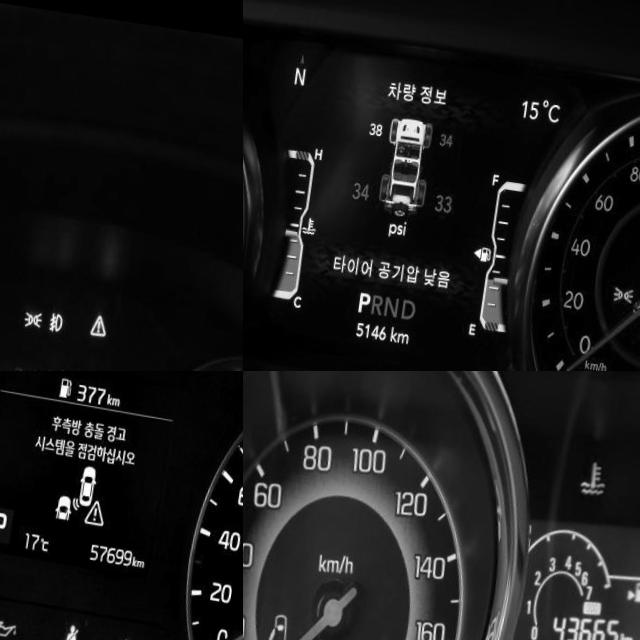Central Warning lamp: (97, 301, 117, 327)
Doors: (277, 602, 300, 640)
Engine cooling system: (582, 441, 614, 480)
FrontFogLight: (56, 301, 72, 324)
SideLamp: (31, 299, 52, 320), (623, 267, 640, 286)
